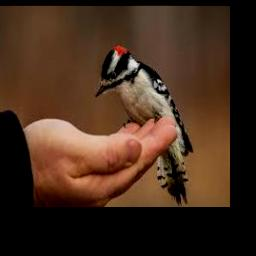Woodpecker: (95, 44, 193, 206)
